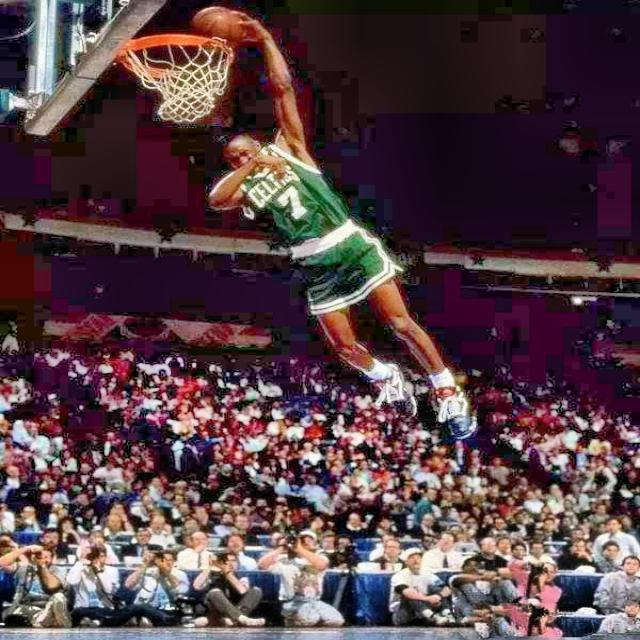rim: (128, 34, 233, 124)
